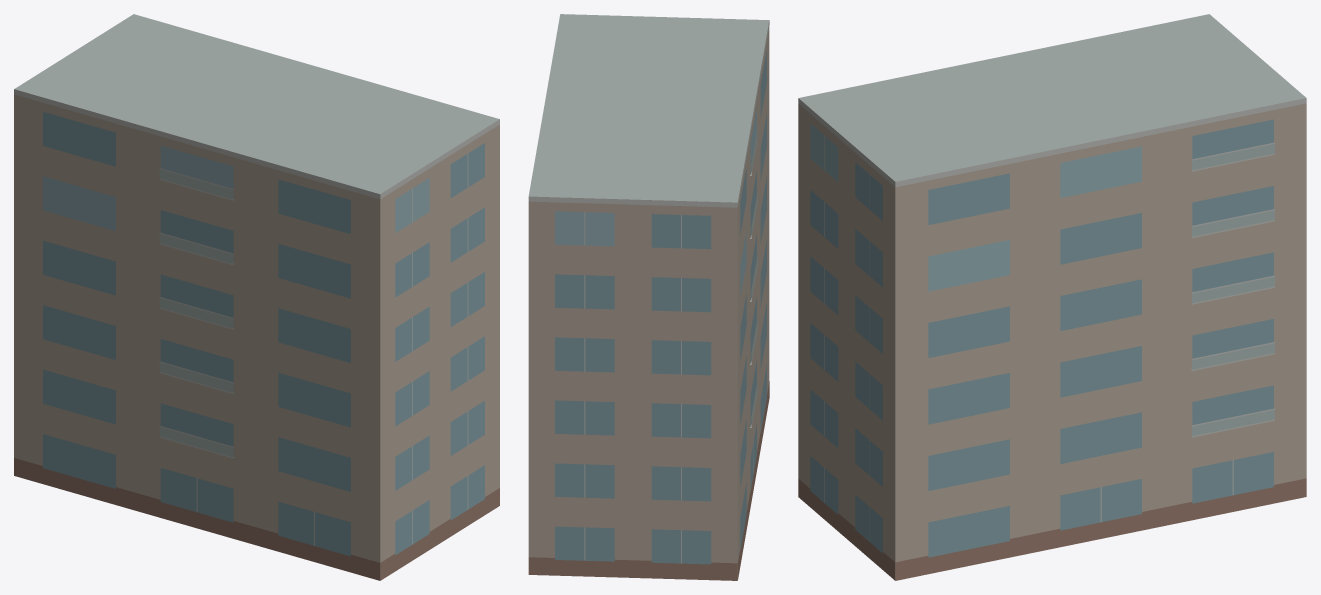
Rendered from survey-upis-32707379.glb.
3 renders of one model, left to right at view 1: azimuth 30°, elevation 25°; view 2: azimuth 150°, elevation 25°; view 3: azimuth 270°, elevation 25°, orthographic. The views are drawn at different scales.
Parts seen in each view (by area): view 1: survey-upis-32707379.tmp; view 2: survey-upis-32707379.tmp; view 3: survey-upis-32707379.tmp.
Part boxes in pixels (x1,y1,x2,y2): survey-upis-32707379.tmp: (14,14,499,580); survey-upis-32707379.tmp: (528,14,769,580); survey-upis-32707379.tmp: (798,14,1306,580).
Bounding box in the file's own units: 16.53 × 18.3 × 21.14.
